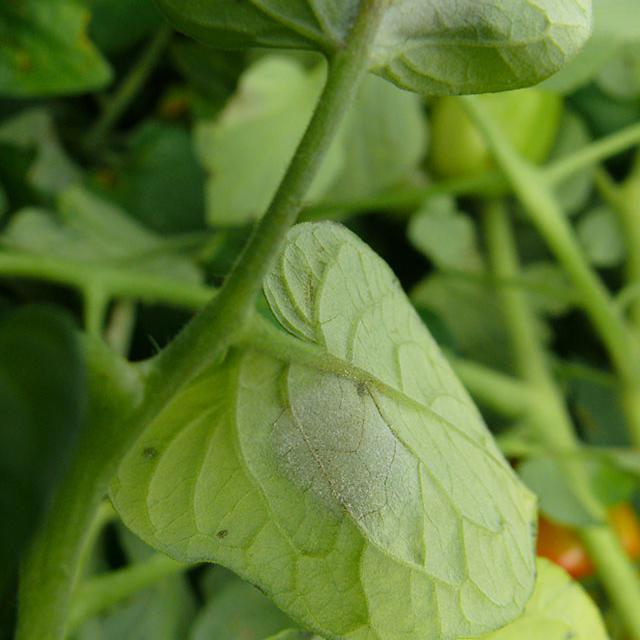Tomato leaf late blight: (103, 210, 537, 640), (90, 0, 621, 92), (120, 547, 640, 640)
